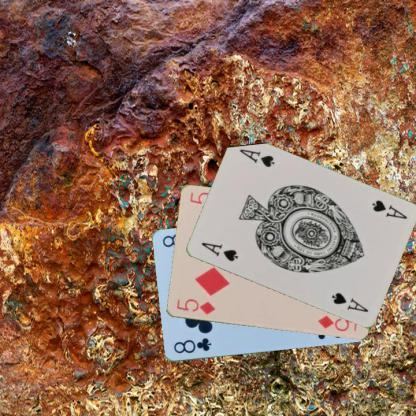5d: (174, 296, 216, 316)
8c: (170, 336, 212, 354)
As: (198, 240, 239, 263), (368, 198, 408, 220)
